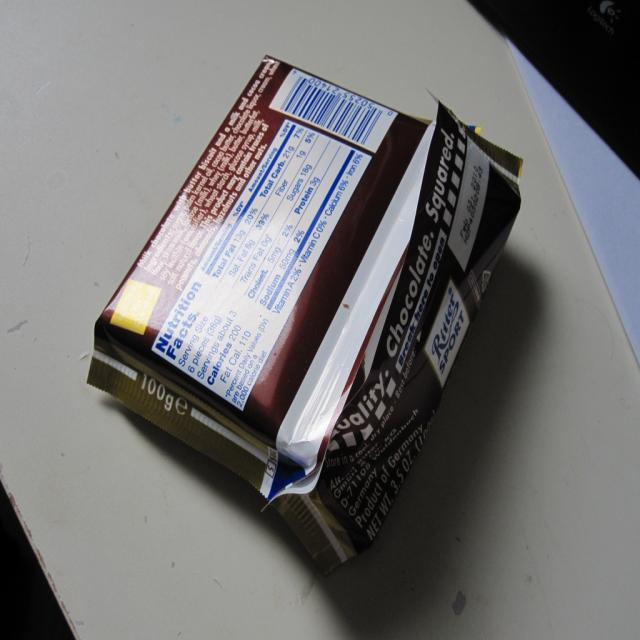rittersport: (422, 281, 474, 389)
